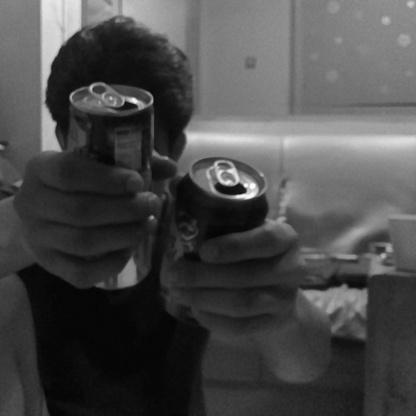alumunium_can: (66, 76, 156, 292), (160, 152, 272, 322)
